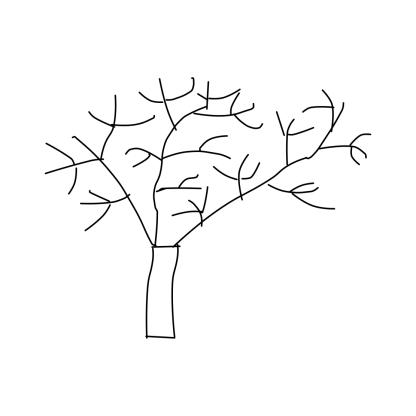branch_line: (42, 74, 372, 236)
trunk_straight: (140, 252, 182, 333)
